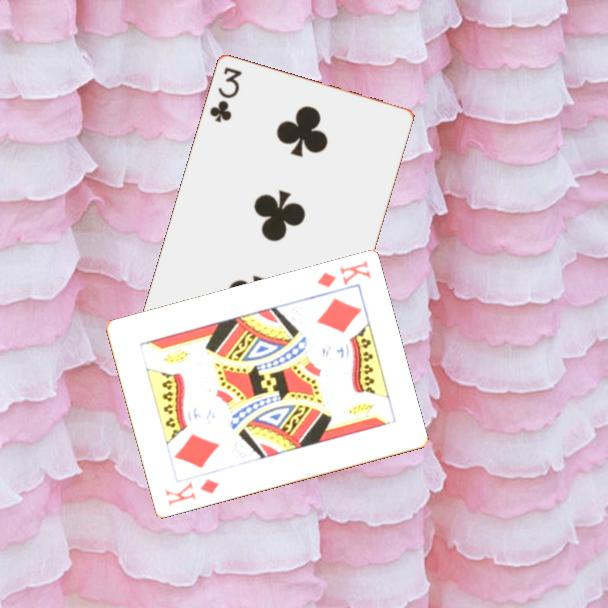c03: (206, 64, 245, 126)
d13: (161, 476, 222, 510), (313, 257, 374, 291)
